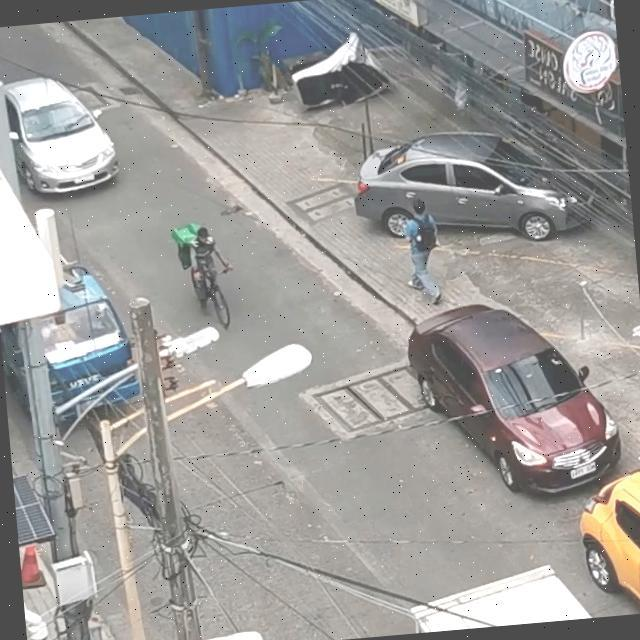Bike: (146, 200, 252, 350)
